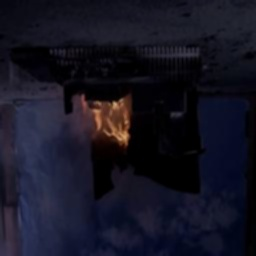fire: (79, 91, 146, 158)
smoke: (7, 164, 250, 254)
